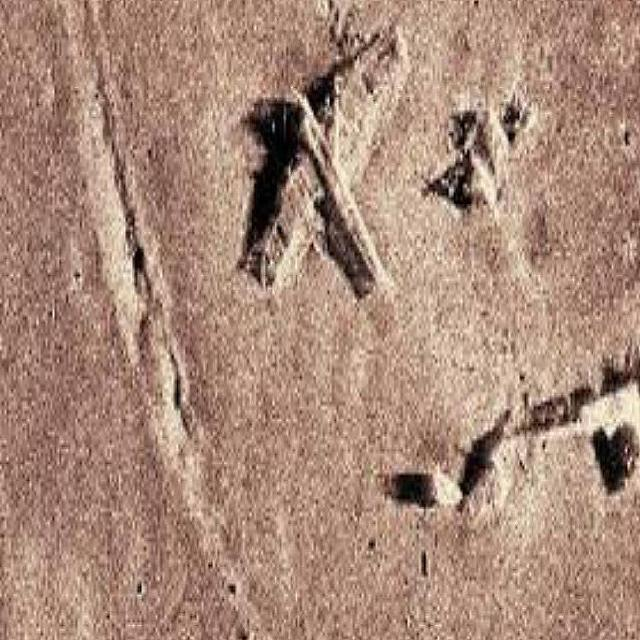plane: (238, 22, 411, 304)
